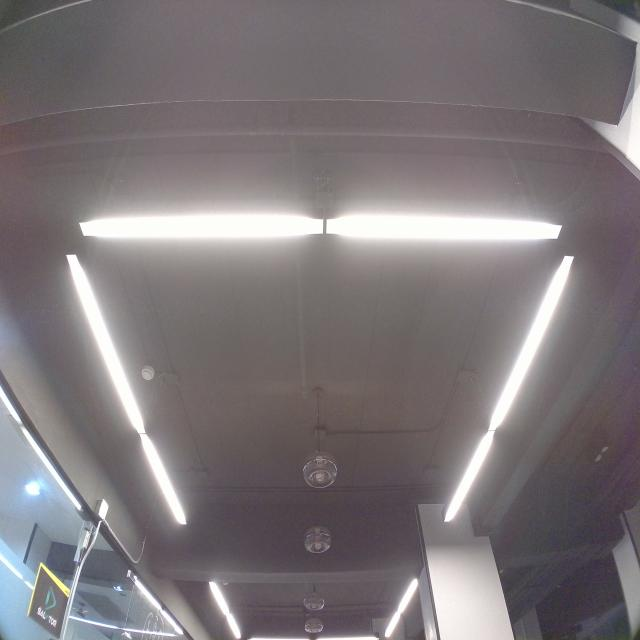lamp2_on: (434, 252, 589, 526), (56, 248, 196, 534), (72, 201, 575, 248)
